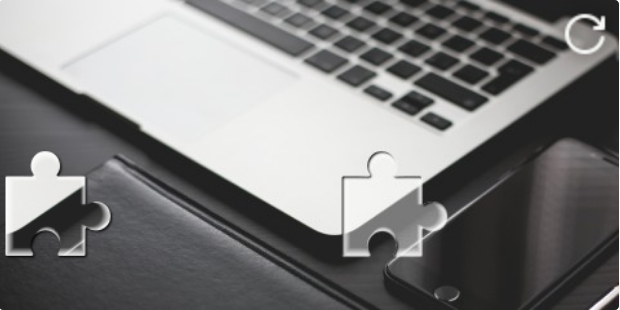target: (342, 152, 448, 258)
